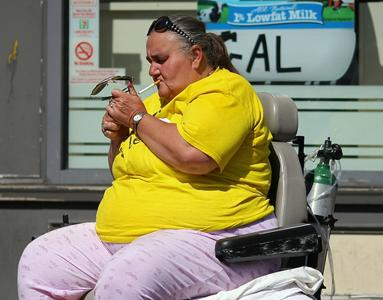person: (14, 16, 281, 300)
